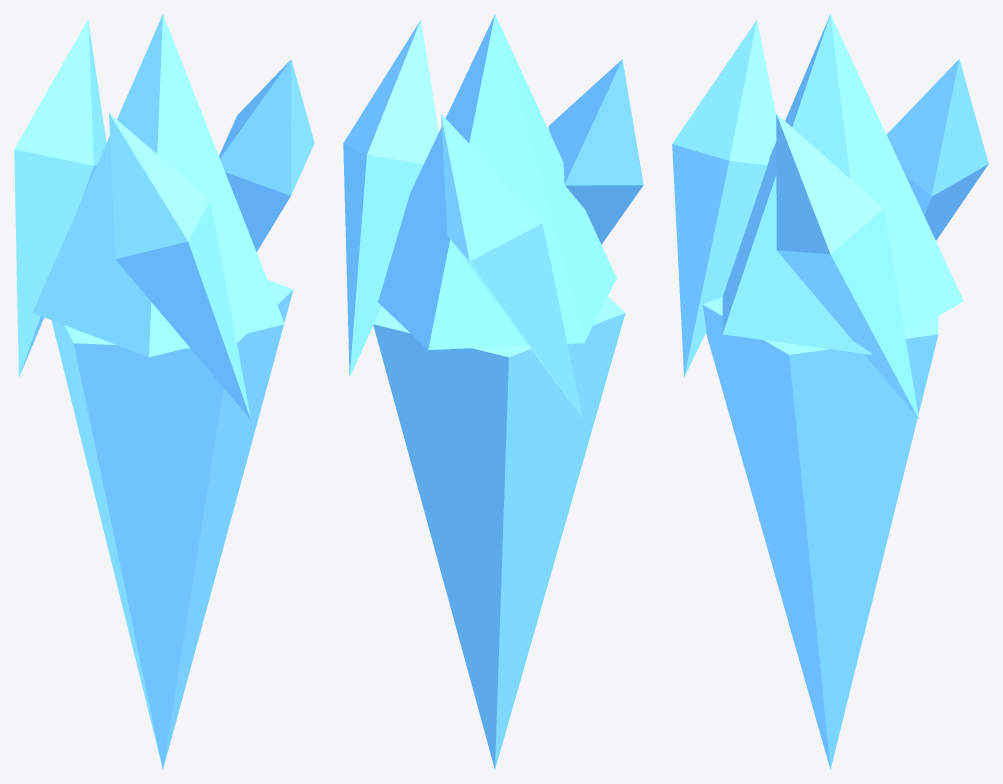
Rendered from fx_ice_shard.glb.
3 views of the same model, side by side, from view 1: azimuth 30°, elevation 25°; view 2: azimuth 150°, elevation 25°; view 3: azimuth 270°, elevation 25° (orthographic).
Parts seen in each view (by area): view 1: Shard_Main, Shard_Side_2, Shard_Side_1, Shard_Side_0; view 2: Shard_Main, Shard_Side_0, Shard_Side_1, Shard_Side_2; view 3: Shard_Main, Shard_Side_0, Shard_Side_2, Shard_Side_1.
Part boxes in pixels (<box>): Shard_Main: <box>32,14,293,768</box>; Shard_Side_2: <box>109,113,250,419</box>; Shard_Side_1: <box>14,19,106,377</box>; Shard_Side_0: <box>219,59,314,251</box>; Shard_Main: <box>373,14,625,768</box>; Shard_Side_0: <box>343,20,438,376</box>; Shard_Side_1: <box>441,114,582,418</box>; Shard_Side_2: <box>548,59,643,244</box>; Shard_Main: <box>702,14,963,769</box>; Shard_Side_0: <box>776,113,918,418</box>; Shard_Side_2: <box>672,20,776,377</box>; Shard_Side_1: <box>886,59,988,240</box>.
Size of the model in its own units: 0.1854 by 0.5 by 0.1898.
